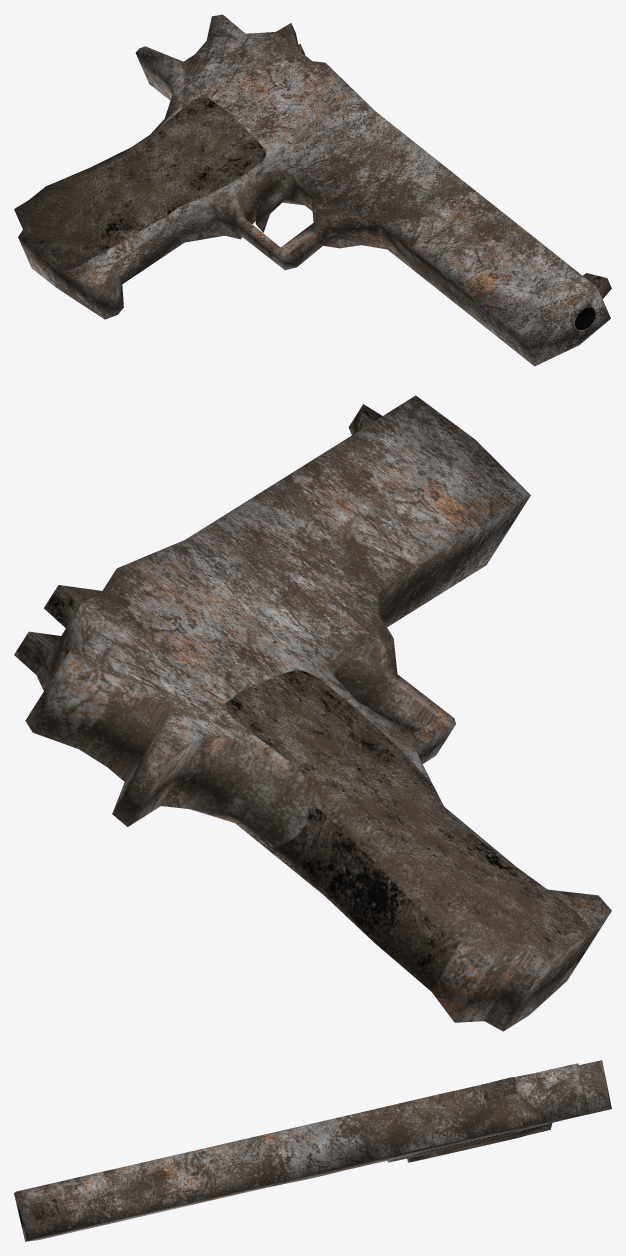
Rendered from Anim_disparar_pistola_objetos.0021.obj.
The picture shows the model from 3 angles, top to bottom: view 1: azimuth 30°, elevation 25°; view 2: azimuth 150°, elevation 25°; view 3: azimuth 270°, elevation 25°; orthographic projection. The views are drawn at different scales.
Parts seen in each view (by area): view 1: Pistola1; view 2: Pistola1; view 3: Pistola1.
Boxes of the visible parts, x1,y1,x2,y2 form: Pistola1: [14, 14, 611, 366]; Pistola1: [14, 395, 611, 1031]; Pistola1: [14, 1060, 611, 1241].
Size of the model in its own units: 1.12 by 0.612 by 1.68.
Materials: 1 (1 with a texture image).
